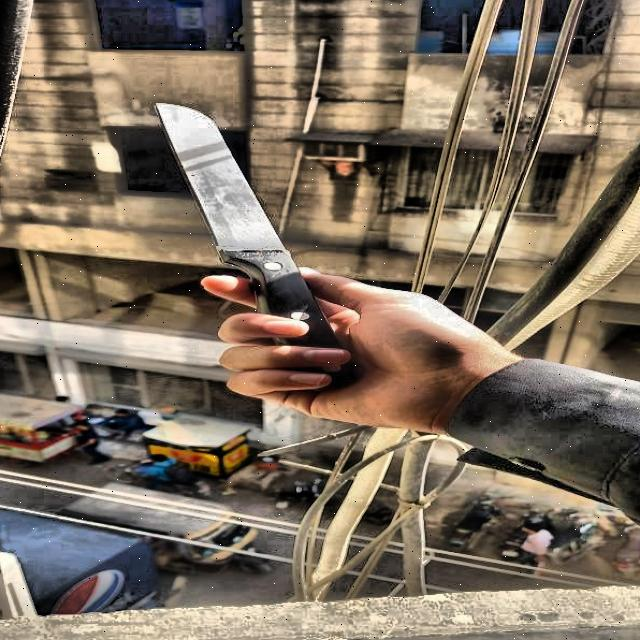knife: (154, 104, 360, 388)
